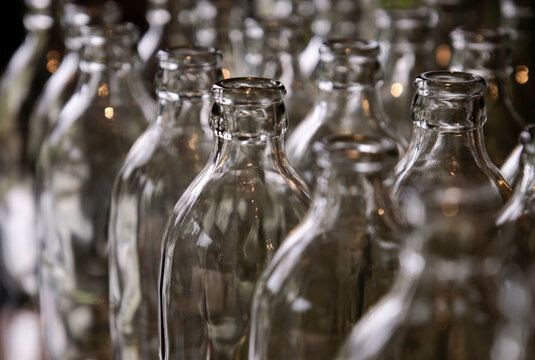glass_bottle: (3, 2, 532, 359)
